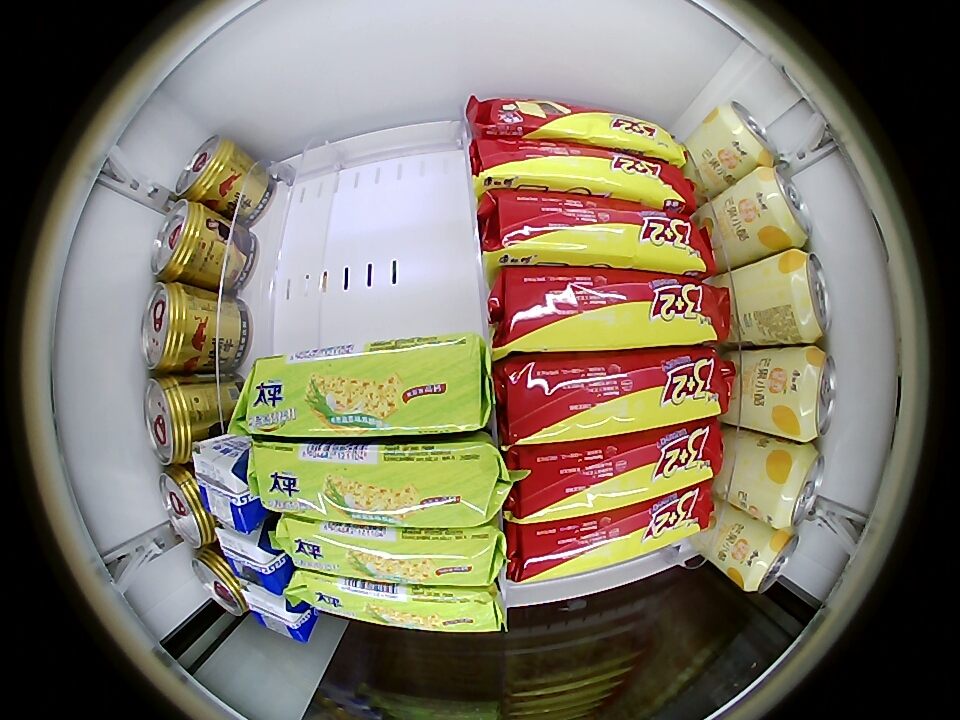3jia2: (504, 350, 726, 446), (514, 426, 719, 522), (497, 269, 724, 351), (517, 488, 711, 580), (495, 195, 708, 272), (476, 142, 692, 207), (479, 101, 683, 160)
anmuxi: (187, 444, 259, 535), (216, 521, 293, 595), (240, 578, 319, 642)
hongniu: (140, 282, 203, 373), (143, 375, 204, 465), (150, 200, 212, 282), (158, 465, 217, 549), (175, 136, 241, 202), (191, 548, 249, 616)
mangguoxiaolao: (766, 442, 826, 529), (784, 347, 836, 441), (753, 165, 812, 247), (780, 249, 831, 343), (714, 100, 778, 167), (740, 527, 800, 594)
taipingshuda: (244, 334, 487, 439), (253, 437, 504, 528), (278, 519, 503, 586), (295, 572, 503, 635)
